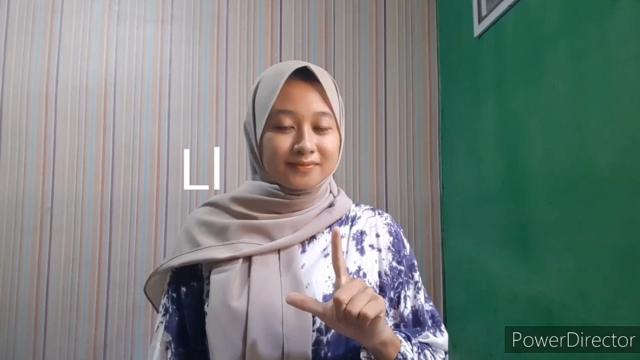L: (286, 226, 400, 344)
